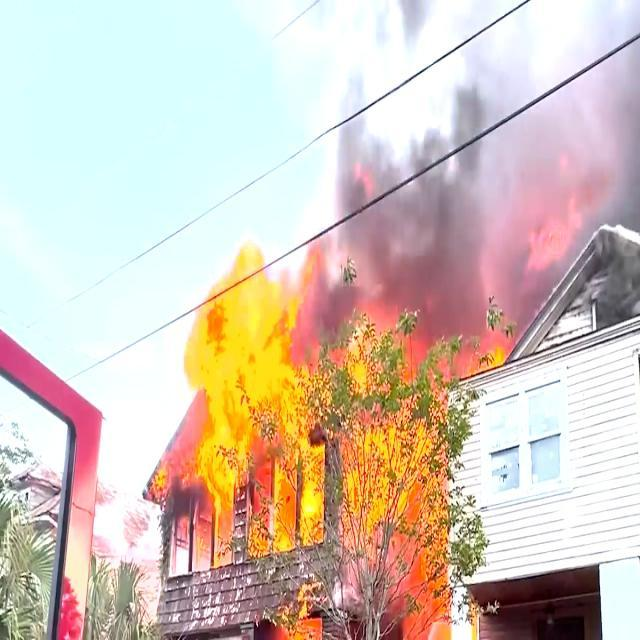Fire: (206, 282, 321, 535), (353, 365, 441, 640)
Smoke: (506, 23, 640, 211), (351, 137, 472, 315)
